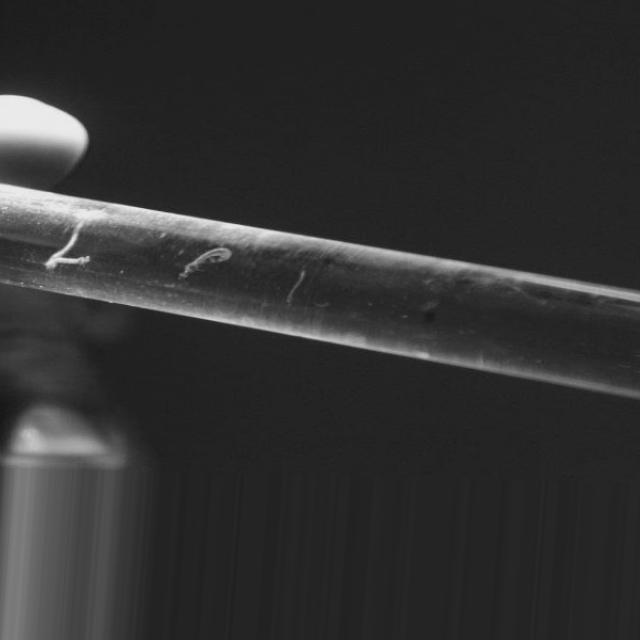larvas: (179, 248, 231, 279), (51, 225, 82, 257), (286, 271, 307, 302), (45, 257, 92, 268)
